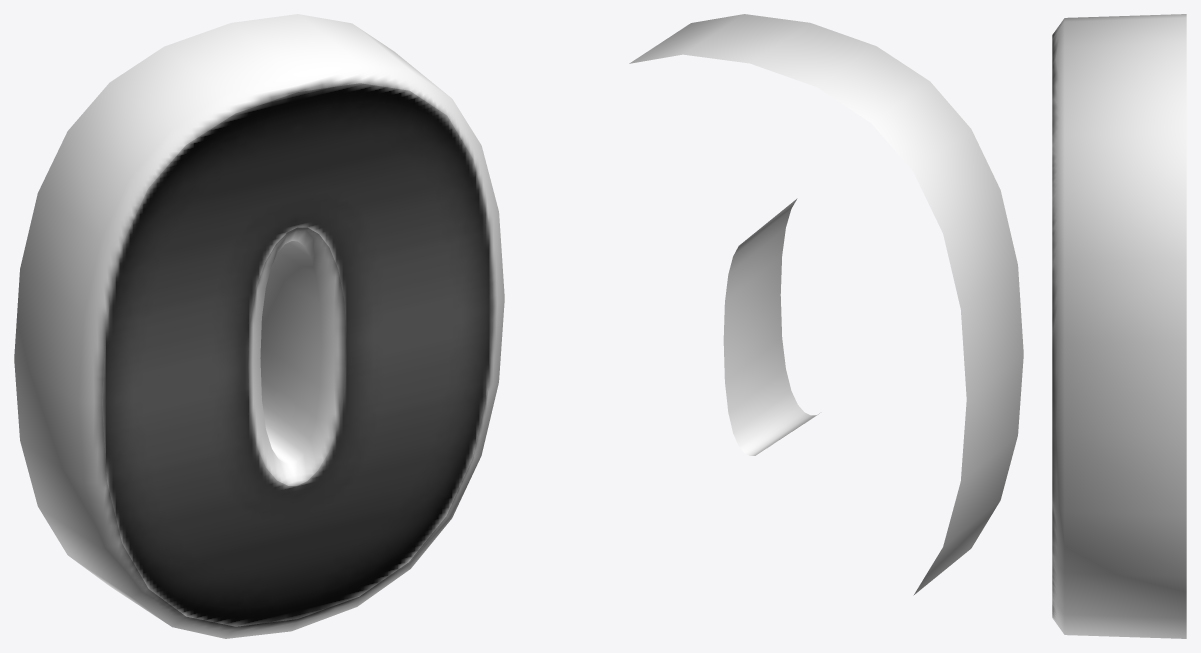
Rendered from bbl_score_model__score_0a.glb.
The picture shows the model from 3 angles, left to right: view 1: azimuth 30°, elevation 25°; view 2: azimuth 150°, elevation 25°; view 3: azimuth 270°, elevation 25°; orthographic projection.
Visible parts, largest first — view 1: polygon1, polygon0; view 2: polygon0; view 3: polygon0.
Part boxes in pixels (x1,y1,x2,y2): polygon1: (102, 83, 493, 626); polygon0: (14, 14, 504, 638); polygon0: (629, 14, 1023, 595); polygon0: (1052, 14, 1186, 638).
Size of the model in its own units: 4.12 by 5.16 by 1.1.
2 materials, 2 textured.
